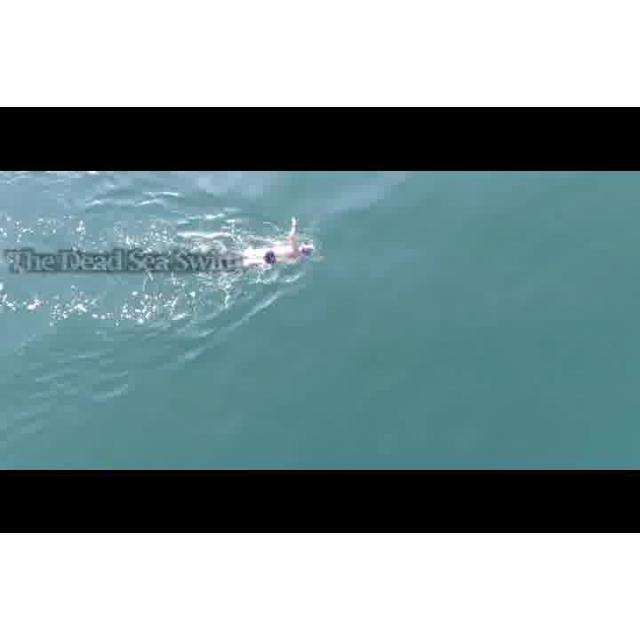human: (245, 219, 323, 269)
